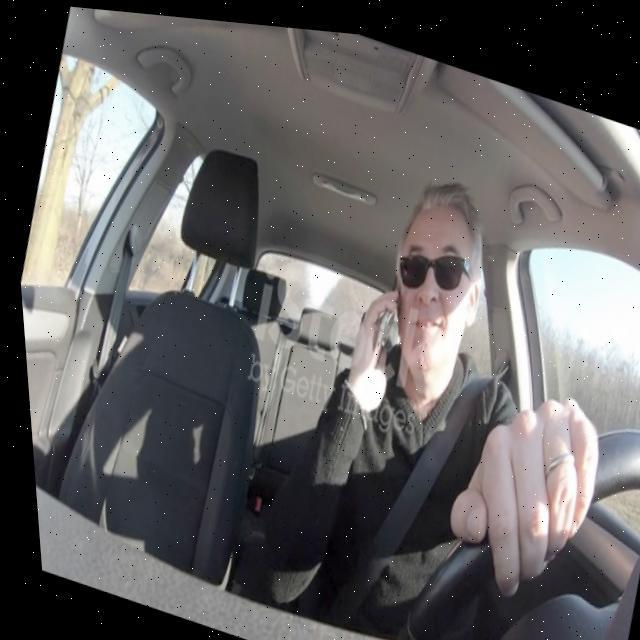PhoneCall: (356, 277, 404, 359)
